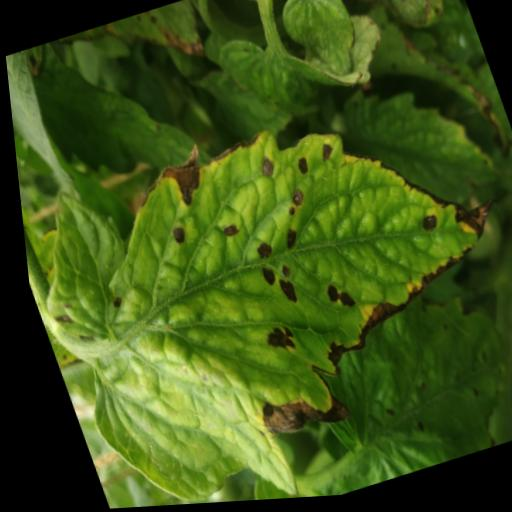Early Blight: (7, 60, 512, 512)
